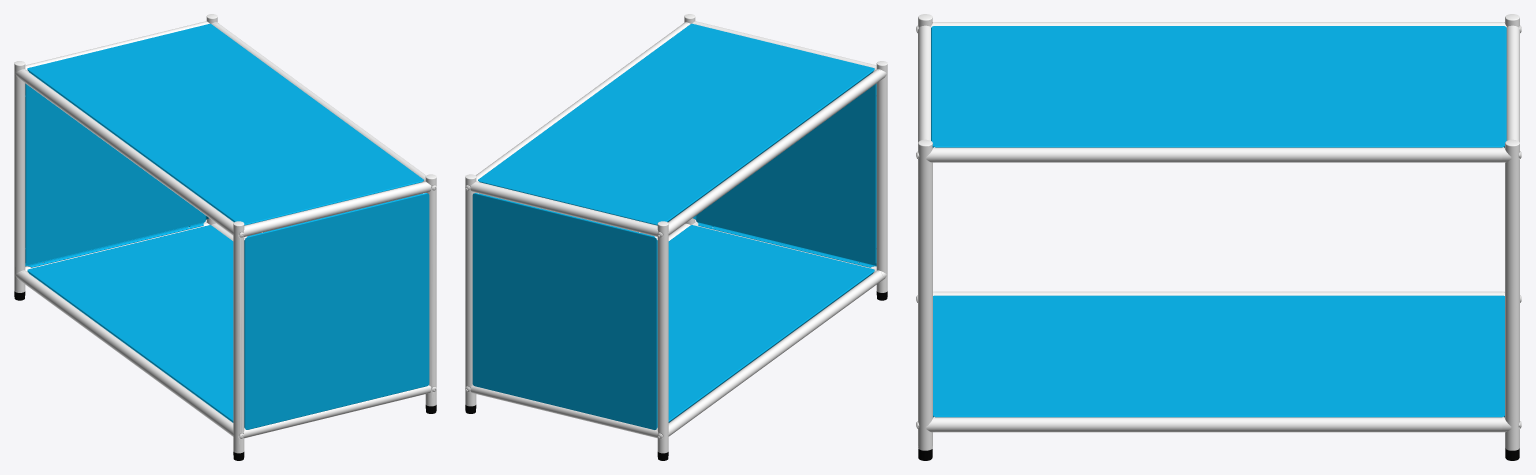
File: 80x40x40-1-8-blue_optimized_optimized.glb
The picture shows the model from 3 angles, left to right: view 1: azimuth 30°, elevation 25°; view 2: azimuth 150°, elevation 25°; view 3: azimuth 270°, elevation 25°; orthographic projection. The views are drawn at different scales.
Visible parts, largest first — view 1: 直角鐵板-80x40-5 - 零件, new-上塞-1 - 零件; view 2: 直角鐵板-80x40-5 - 零件, new-上塞-1 - 零件; view 3: 直角鐵板-80x40-5 - 零件, new-上塞-1 - 零件.
Part boxes in pixels (x1=…): 直角鐵板-80x40-5 - 零件: x1=25, y1=23, x2=429, y2=429; new-上塞-1 - 零件: x1=14, y1=14, x2=436, y2=453; 直角鐵板-80x40-5 - 零件: x1=472, y1=23, x2=876, y2=429; new-上塞-1 - 零件: x1=465, y1=14, x2=887, y2=453; 直角鐵板-80x40-5 - 零件: x1=931, y1=26, x2=1506, y2=417; new-上塞-1 - 零件: x1=916, y1=14, x2=1521, y2=450.
Size of the model in its own units: 0.3992 by 0.4453 by 0.7732.
